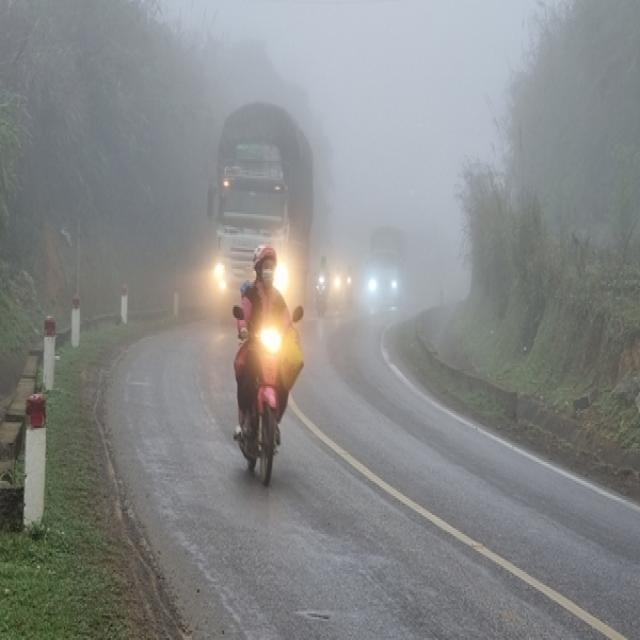Motobike: (231, 294, 301, 480)
Truck: (208, 99, 306, 319)
